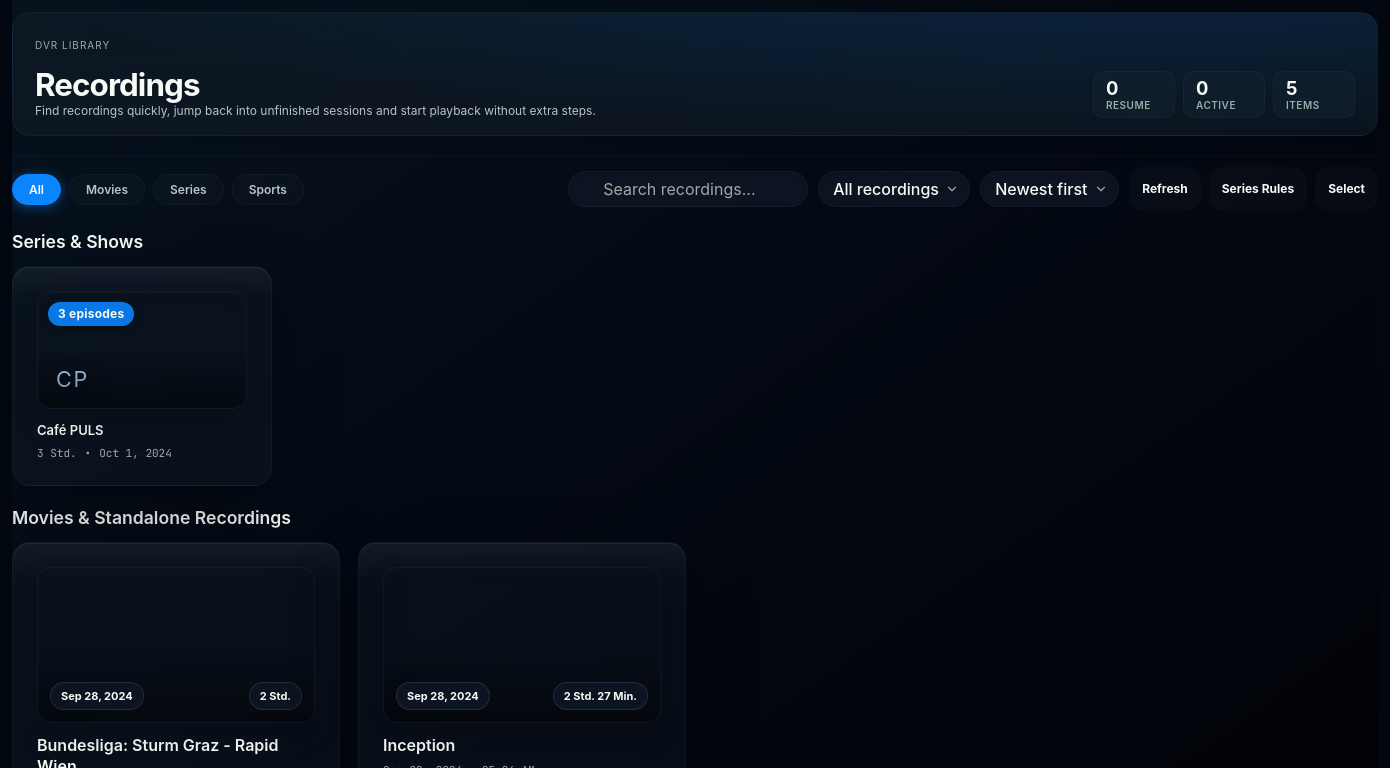
Test: RecordingsList category filtering and series subfolder grouping › renders category tabs and filters between All, Movies, Series, and Sports
Expected: the tab "All" is shown, [12, 174, 61, 205]
Expected: the tab "Series" is shown, [153, 174, 224, 205]
Note: Filter to Movies
What coordinates should you click on to do the following:
click the tab "Movies"
I would click on:
 (107, 189)
Its box is [69, 174, 145, 205].
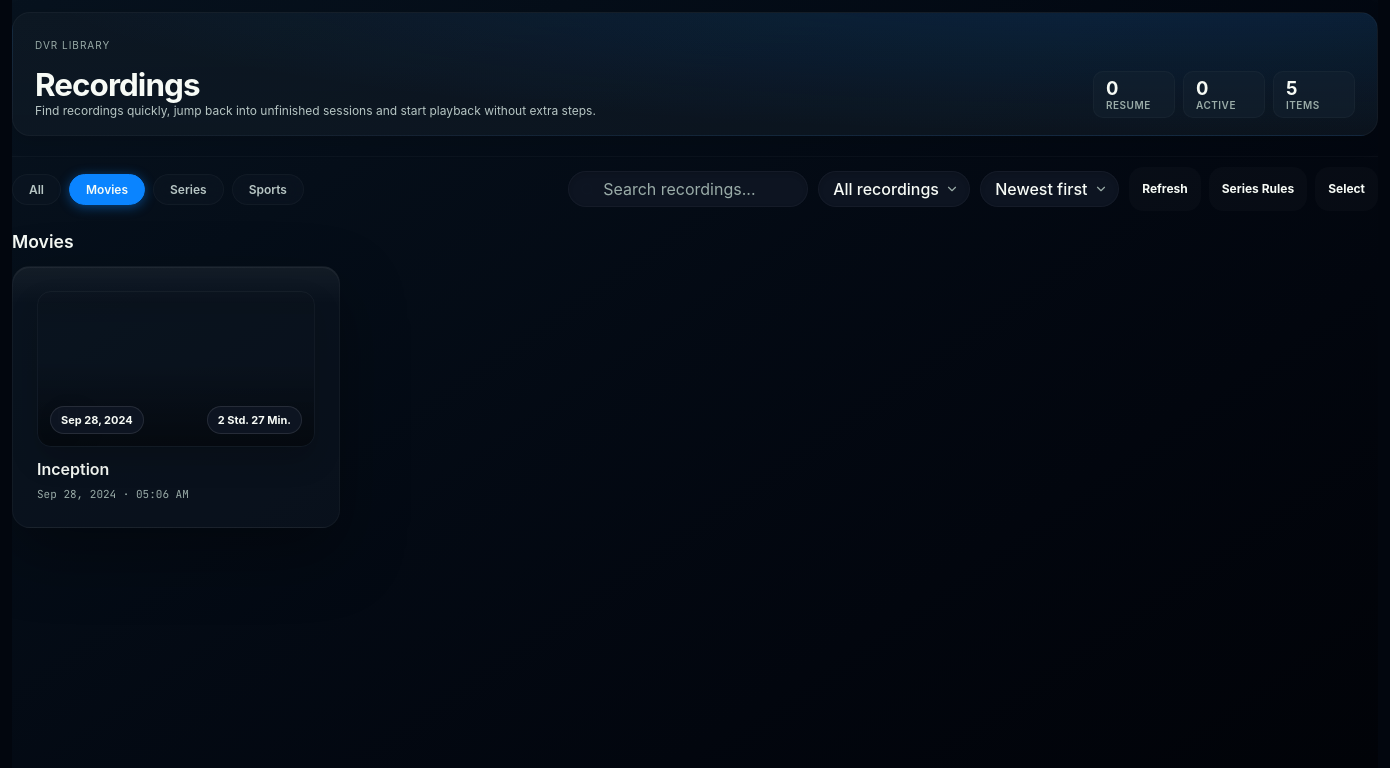
Expected: the text "Inception" is shown, [37, 460, 109, 480]
Note: Filter to Sports
What coordinates should you click on to do the following:
click the tab "Sports"
I would click on:
 (268, 189)
Its box is [232, 174, 304, 205].
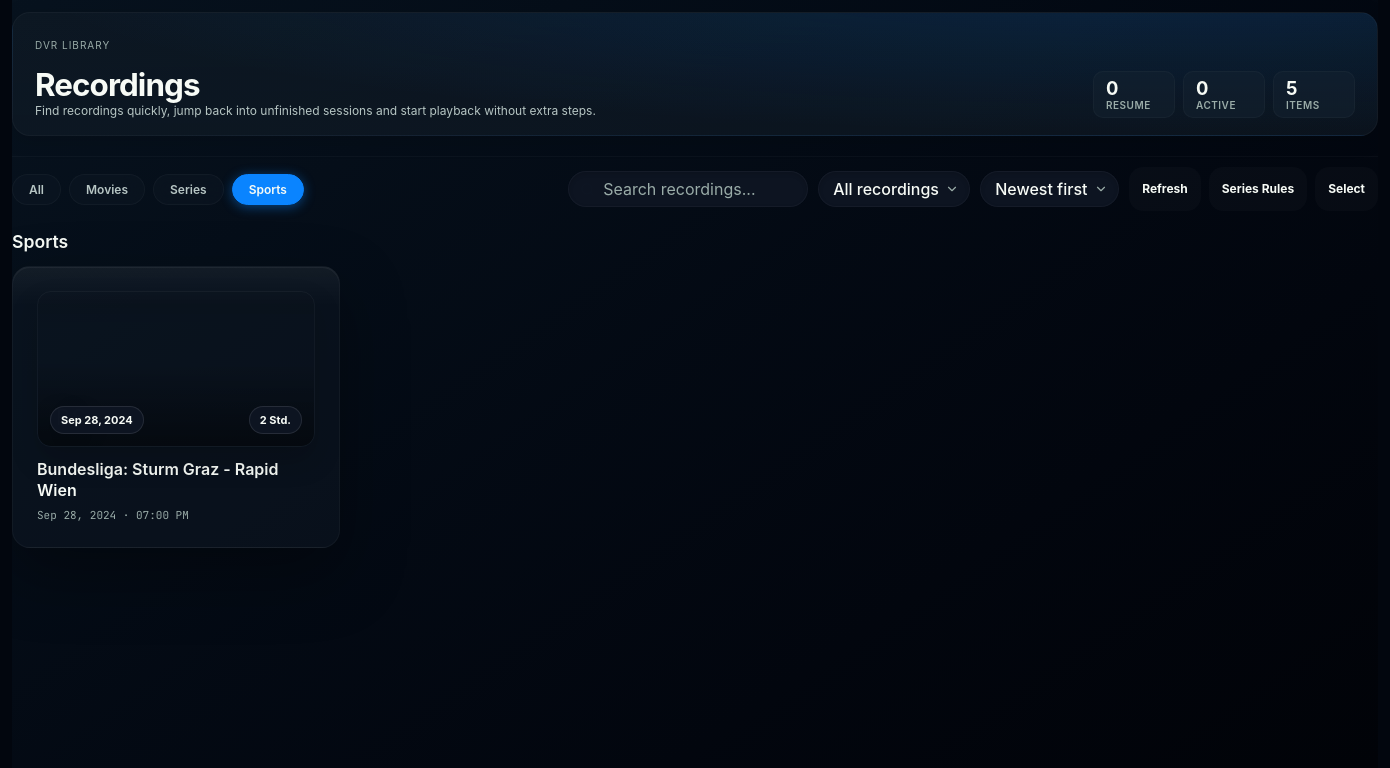
Now the text "Bundesliga: Sturm Graz - Rapid Wien" is shown, box [37, 460, 315, 502]
Now the button "Inception" is gone
